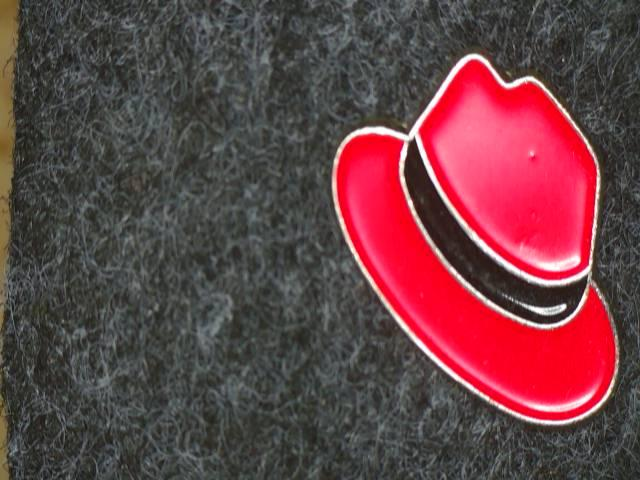Red-Hat: (290, 26, 636, 458)
